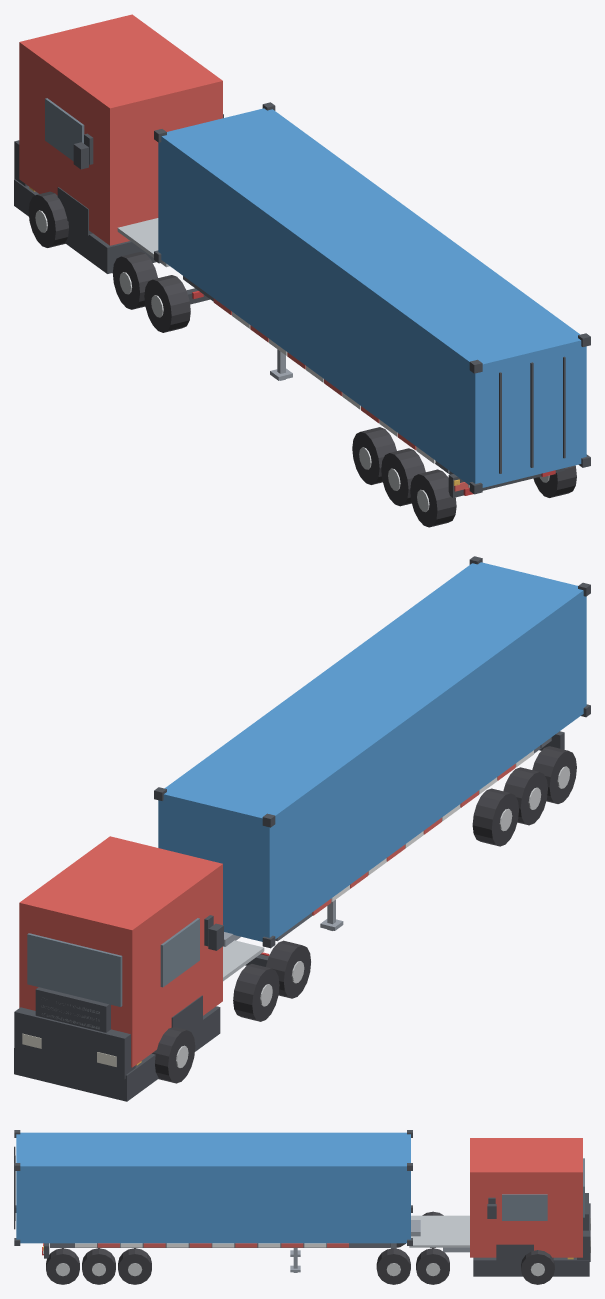
The model's file is truck.glb.
The picture shows the model from 3 angles, top to bottom: view 1: azimuth 30°, elevation 25°; view 2: azimuth 150°, elevation 25°; view 3: azimuth 270°, elevation 25°; orthographic projection. The views are drawn at different scales.
Size of the model in its own units: 3.14 by 3.93 by 17.61.
